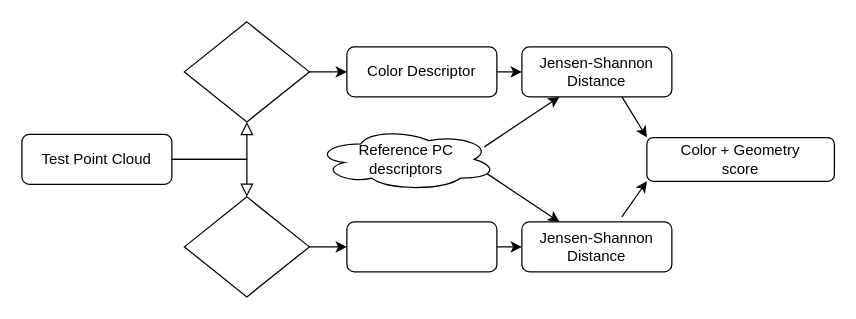
This 856x319 diagram has some shape labels left out. The centre of each missing label's shape, as x and y in pixels:
"Geometry Descriptor" belongs at [421,246].
"Normals Extraction" belongs at [246,246].
"Voxelization" belongs at [246,71].
